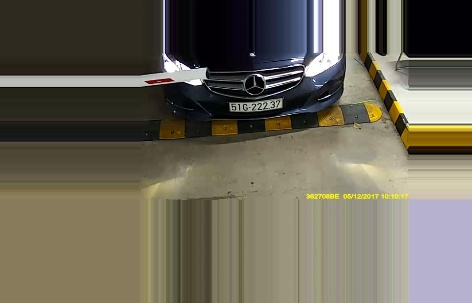plate: (225, 98, 286, 113)
